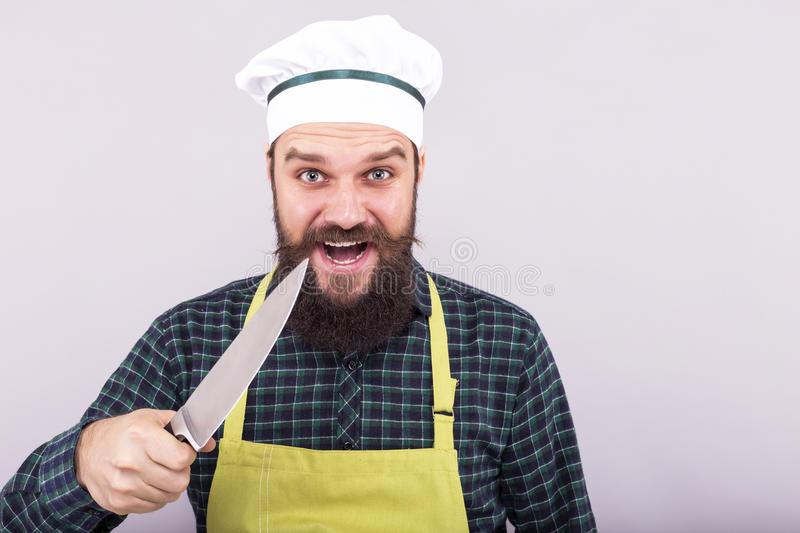criminal: (0, 12, 600, 533)
weapon: (160, 255, 314, 458)
